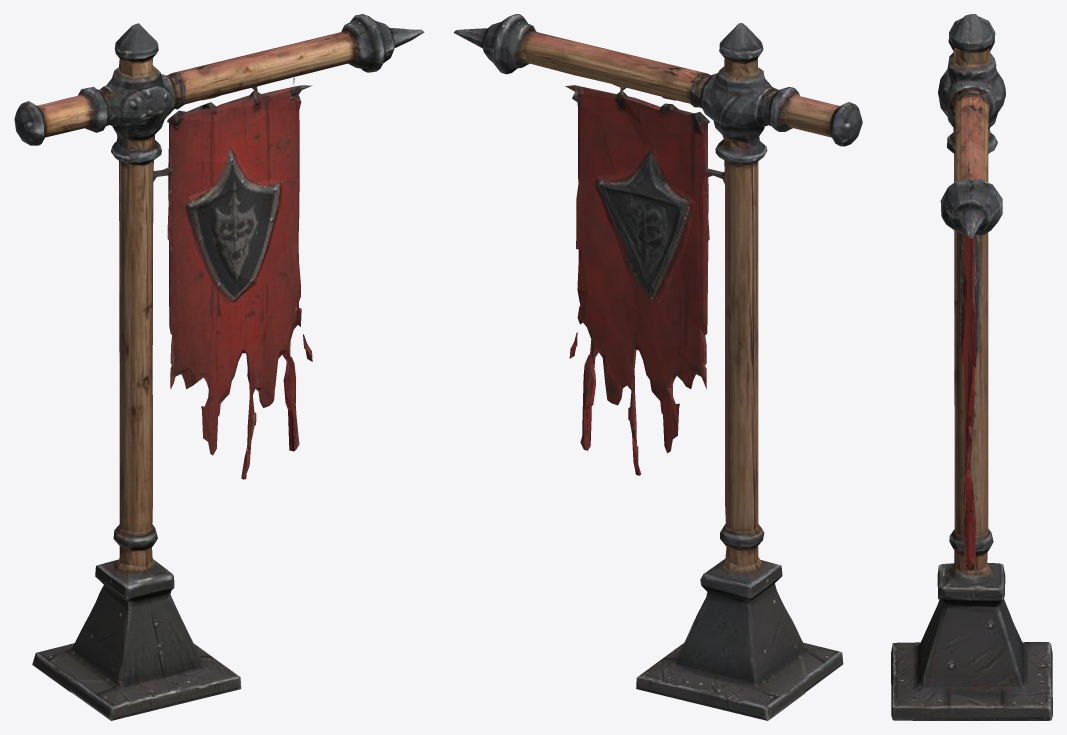
File: banner_crossbar_lod0.glb
3 views of the same model, side by side, from view 1: azimuth 30°, elevation 25°; view 2: azimuth 150°, elevation 25°; view 3: azimuth 270°, elevation 25° (orthographic). The views are drawn at different scales.
Visible parts, largest first — view 1: banner_crossbar_lod0; view 2: banner_crossbar_lod0; view 3: banner_crossbar_lod0.
Boxes of the visible parts, box(x1,y1,x2,y2) form: banner_crossbar_lod0: box(14, 14, 424, 720); banner_crossbar_lod0: box(453, 14, 862, 720); banner_crossbar_lod0: box(891, 14, 1052, 720).
Size of the model in its own units: 2.27 by 3.5 by 0.7602.
Materials: 1 (1 with a texture image).
